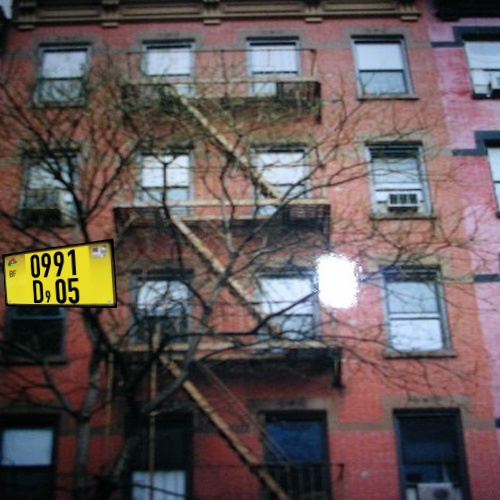plate: (2, 235, 134, 331)
